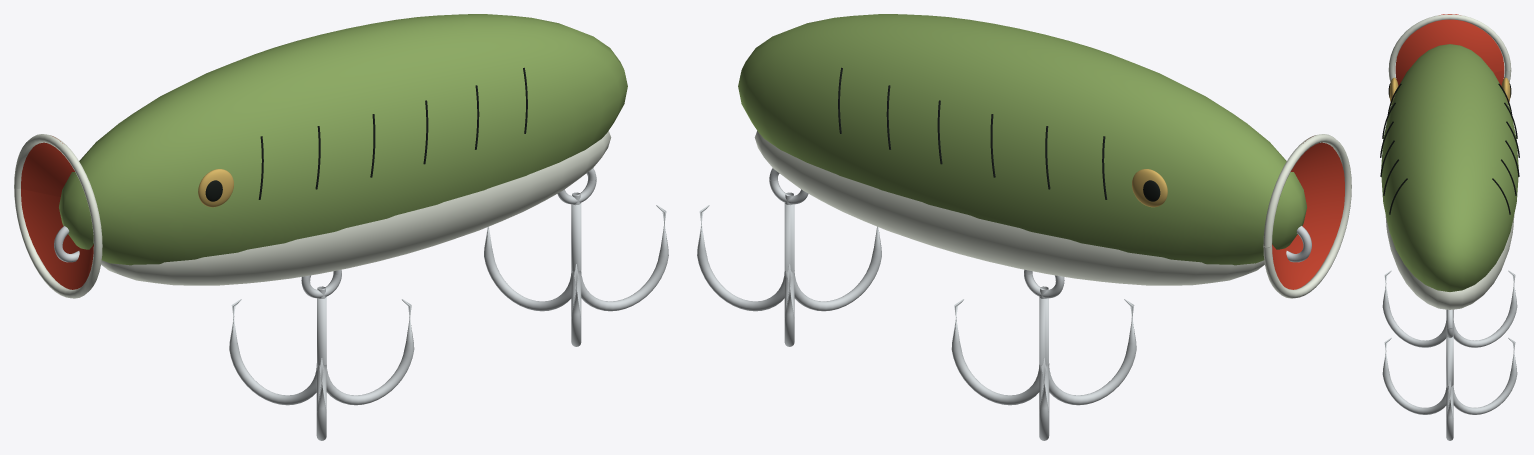
File: popper.glb
3 views of the same model, side by side, from view 1: azimuth 30°, elevation 25°; view 2: azimuth 150°, elevation 25°; view 3: azimuth 270°, elevation 25° (orthographic). The views are drawn at different scales.
Visible parts, largest first — view 1: popper specimen.002; view 2: popper specimen.002; view 3: popper specimen.002.
Boxes of the visible parts, left/top/right/bottom form: popper specimen.002: left=14, top=14, right=668, bottom=440; popper specimen.002: left=697, top=14, right=1351, bottom=440; popper specimen.002: left=1380, top=14, right=1519, bottom=440.
Bounding box in the file's own units: 1.42 × 0.8201 × 0.3855.
